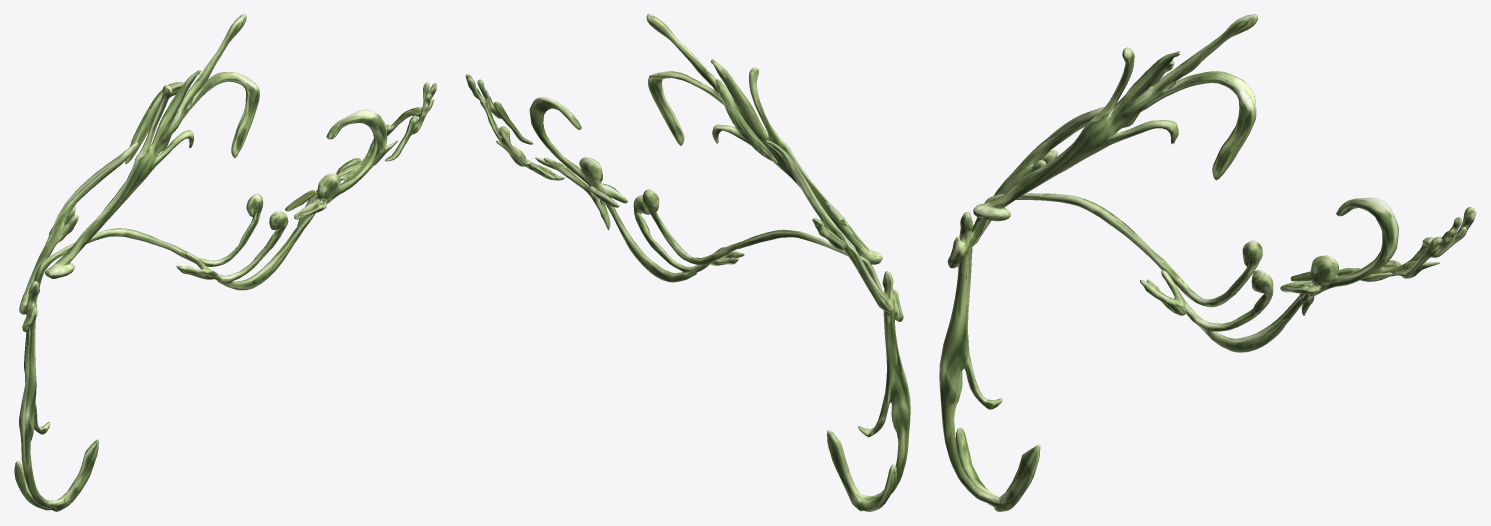
The model's file is offer-intro.glb.
3 views of the same model, side by side, from view 1: azimuth 30°, elevation 25°; view 2: azimuth 150°, elevation 25°; view 3: azimuth 330°, elevation 25° (orthographic). The views are drawn at different scales.
Visible parts, largest first — view 1: tripo_node_6607584e-f64a-4694-bf9e-e9bef4dc1d35; view 2: tripo_node_6607584e-f64a-4694-bf9e-e9bef4dc1d35; view 3: tripo_node_6607584e-f64a-4694-bf9e-e9bef4dc1d35.
Boxes of the visible parts, left/top/right/bottom form: tripo_node_6607584e-f64a-4694-bf9e-e9bef4dc1d35: left=14, top=14, right=436, bottom=511; tripo_node_6607584e-f64a-4694-bf9e-e9bef4dc1d35: left=465, top=14, right=910, bottom=511; tripo_node_6607584e-f64a-4694-bf9e-e9bef4dc1d35: left=939, top=14, right=1476, bottom=511.
Bounding box in the file's own units: 0.9817 × 0.9757 × 0.0976.
Materials: 1 (1 with a texture image).
